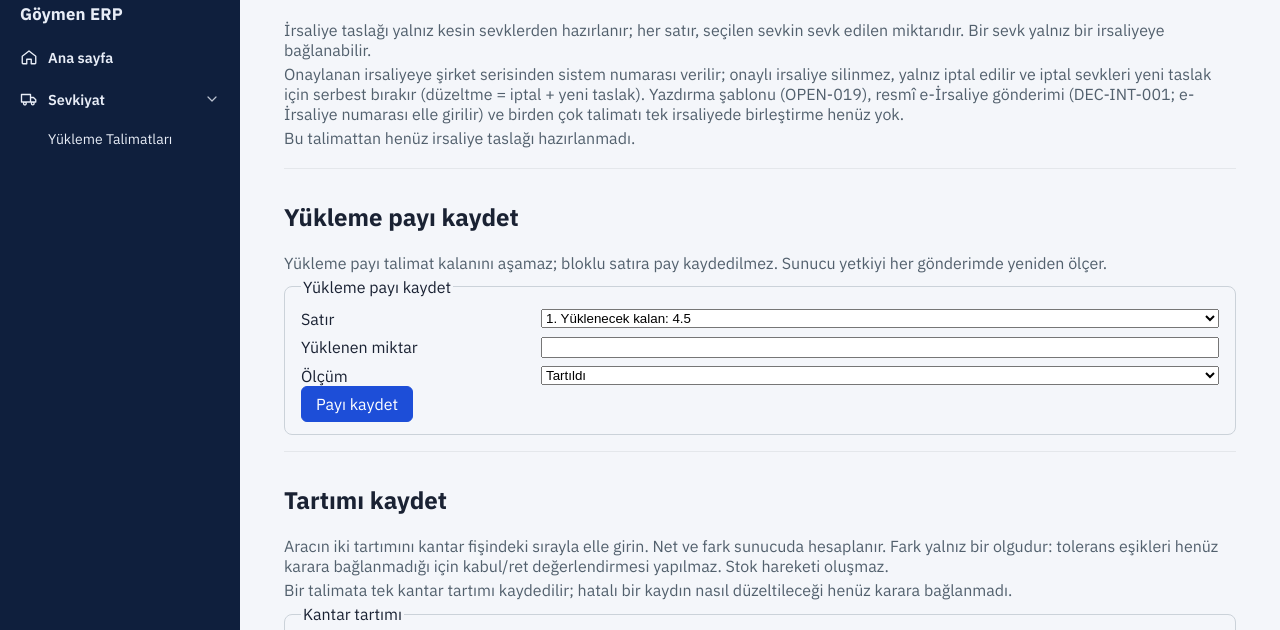
Test: L-02-DETAIL › a second load after a completed one is a NEW attempt under a new key and a new load id; its refusal replaces the success notice
This screenshot has width=1280, height=630.
(page scrolled)
In the field labelled "Yüklenen miktar": [880, 347] box [541,337,1219,358], type "2,5"
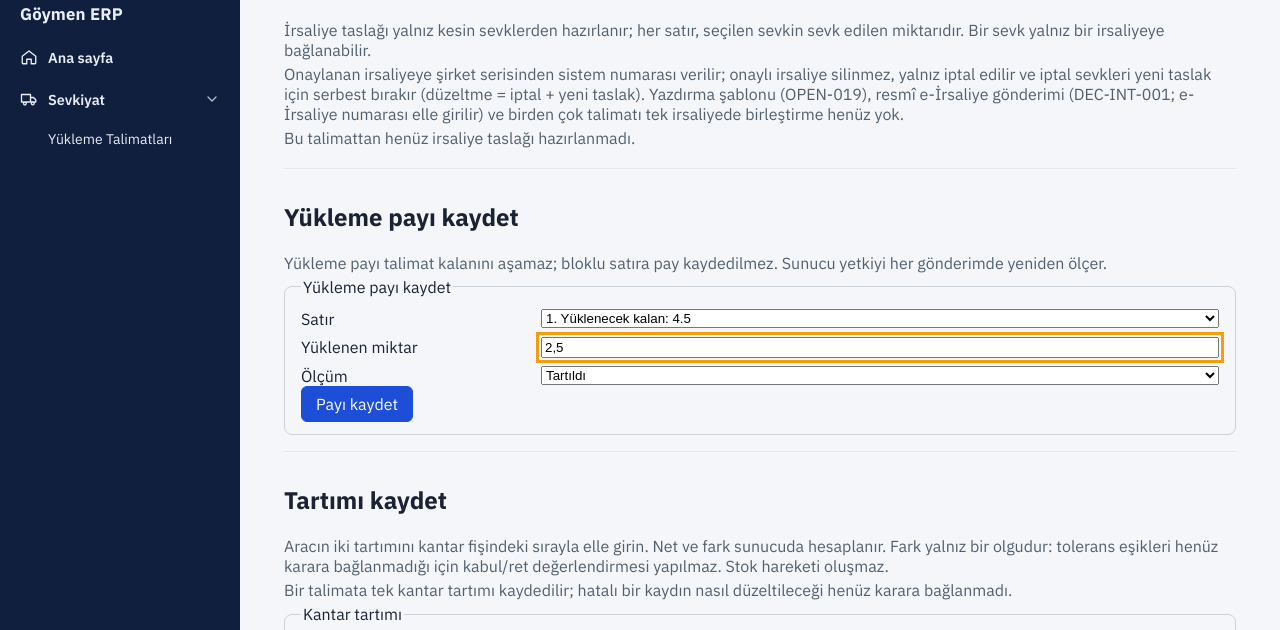
Click the button with test id "logistics-load-button": [357, 404] box [301,386,413,422]
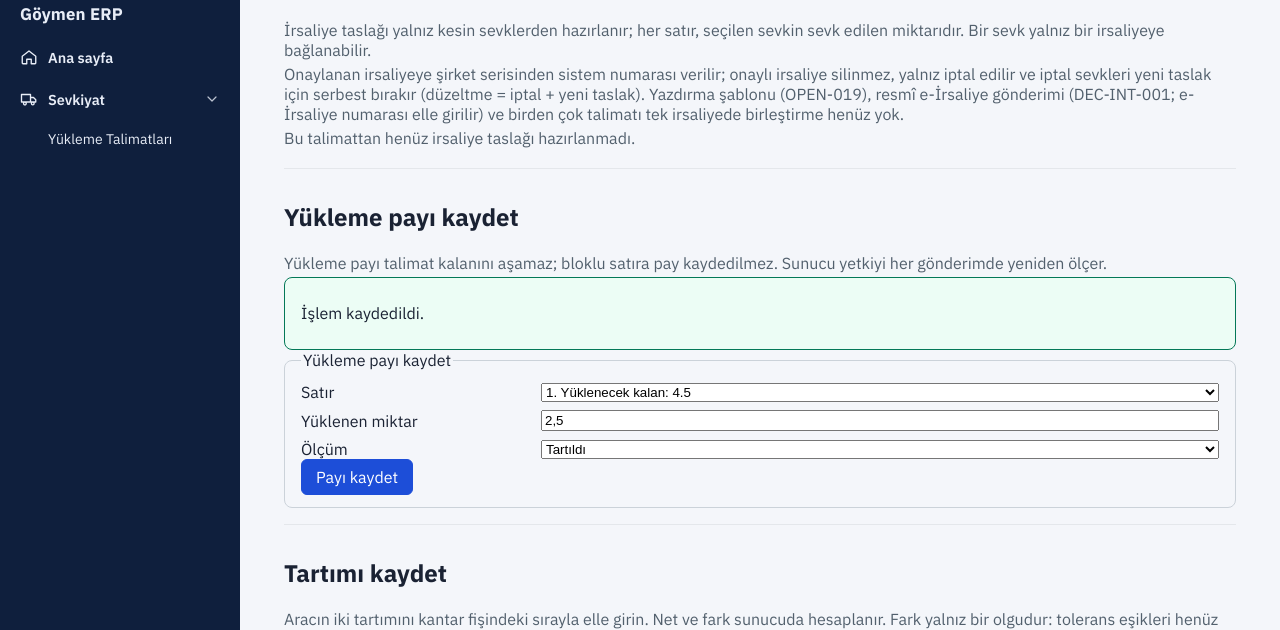
Result: the text with test id "logistics-load-notice" reads "İşlem kaydedildi." at [301,303,424,323]
// Property 2: the next submit is a fresh attempt whose outcome replaces that notice.
Replace the text in the field labelled "Yüklenen miktar" with "3": [880, 420] box [541,410,1219,431]
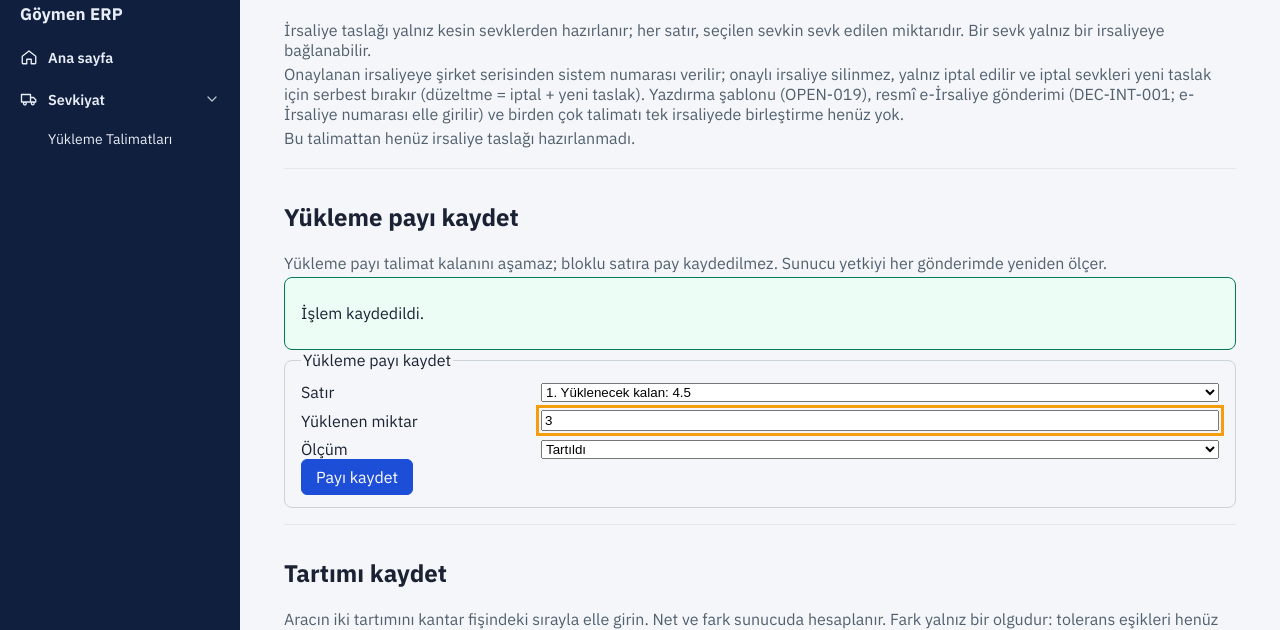
Click the button with test id "logistics-load-button": [357, 477] box [301,459,413,495]
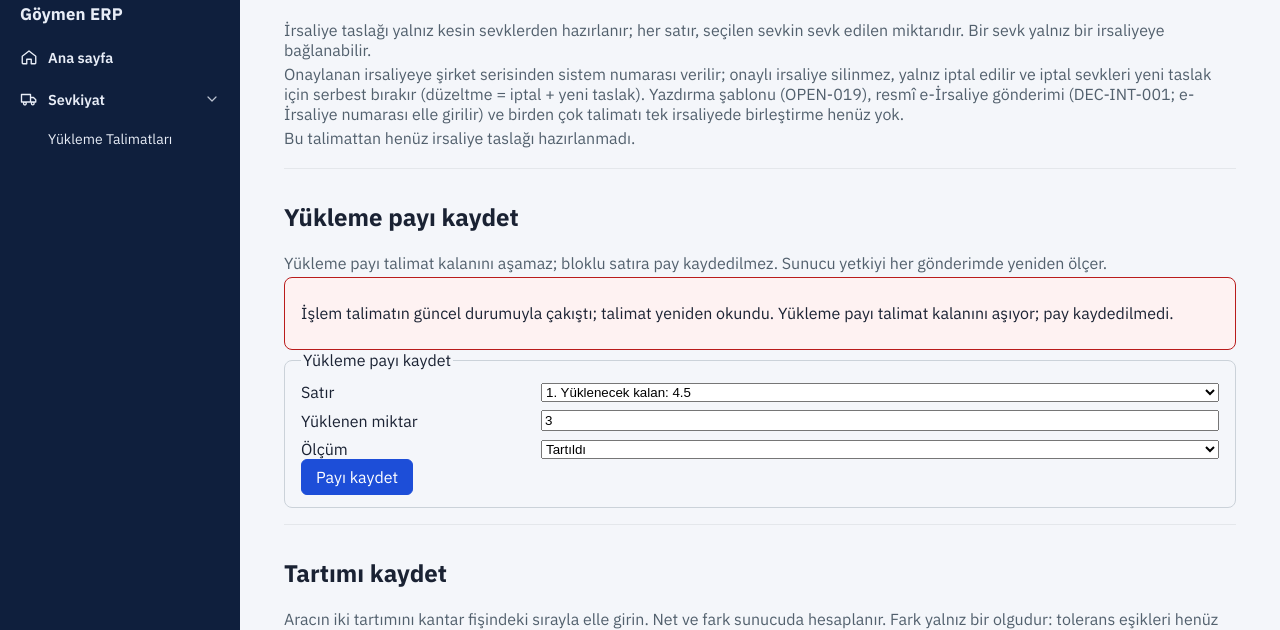
Result: the text "İşlem kaydedildi." is gone
